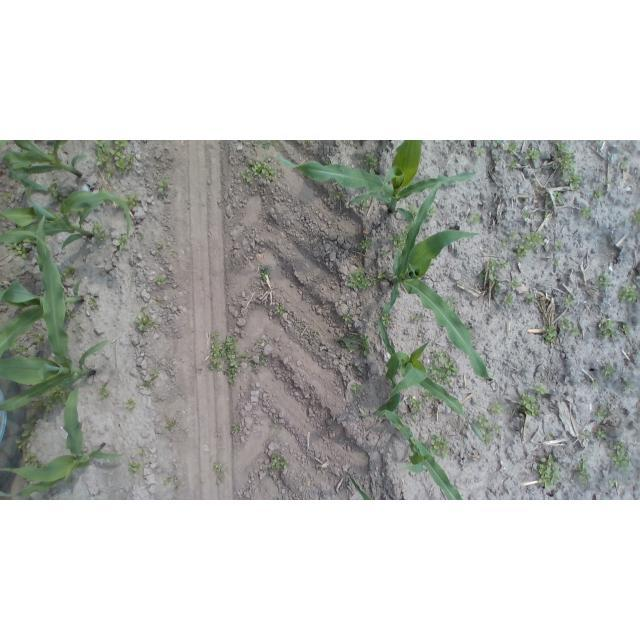Maize: (381, 179, 490, 380), (1, 231, 111, 414), (360, 311, 489, 453), (275, 140, 477, 220), (1, 385, 128, 500), (0, 214, 84, 359), (1, 190, 132, 251), (381, 406, 463, 500), (1, 141, 87, 192), (347, 472, 374, 500)
Weeds: (208, 332, 244, 390), (94, 141, 133, 177), (428, 351, 458, 386), (241, 157, 277, 184), (34, 386, 71, 412), (537, 453, 561, 491), (335, 333, 371, 355), (15, 419, 37, 453), (554, 141, 578, 171), (479, 259, 510, 282), (609, 441, 631, 471), (6, 239, 37, 260), (347, 266, 372, 290), (428, 434, 450, 458), (519, 392, 539, 416), (618, 284, 640, 305), (133, 311, 155, 332), (598, 317, 617, 339), (574, 456, 590, 482), (390, 231, 409, 252), (559, 318, 581, 336), (481, 425, 501, 444), (522, 232, 545, 246), (269, 454, 289, 470), (93, 222, 108, 243), (564, 172, 581, 190), (543, 324, 558, 344), (24, 456, 47, 469), (245, 353, 259, 374), (514, 244, 531, 261), (596, 272, 612, 290), (125, 193, 140, 210), (252, 141, 279, 150), (51, 181, 62, 203), (525, 146, 540, 162), (127, 458, 142, 474), (372, 271, 388, 286), (158, 176, 170, 196), (533, 382, 549, 396), (477, 415, 495, 427), (505, 141, 520, 155), (445, 296, 458, 312), (490, 402, 505, 415), (411, 396, 422, 412), (10, 343, 27, 353), (63, 267, 76, 280), (364, 155, 378, 167), (259, 266, 271, 280), (595, 407, 607, 421), (603, 363, 614, 378), (503, 294, 516, 306), (361, 237, 372, 251), (118, 237, 128, 252), (99, 384, 109, 399), (32, 332, 44, 344), (506, 158, 518, 170), (124, 398, 136, 410), (580, 206, 592, 218), (564, 295, 575, 308), (65, 308, 75, 322), (471, 213, 482, 225), (352, 383, 363, 395), (621, 324, 632, 336), (625, 380, 635, 393), (596, 429, 607, 440), (594, 189, 605, 200), (511, 279, 522, 290), (259, 352, 269, 364), (155, 276, 167, 286), (406, 202, 416, 214), (383, 313, 392, 326), (554, 190, 562, 204), (213, 462, 224, 472), (343, 312, 352, 324), (89, 297, 98, 309), (525, 295, 537, 304), (163, 477, 175, 486), (335, 191, 344, 203), (619, 160, 629, 170), (553, 241, 563, 251), (66, 477, 75, 488), (232, 425, 241, 436), (632, 209, 639, 223), (424, 389, 432, 401), (217, 474, 226, 484), (475, 146, 485, 155), (166, 419, 175, 429), (501, 238, 510, 248), (274, 306, 284, 315), (493, 282, 501, 293), (523, 210, 532, 219), (313, 329, 322, 338), (145, 380, 154, 389), (59, 144, 68, 153), (602, 179, 611, 188), (509, 231, 518, 240), (581, 431, 591, 439), (412, 314, 422, 322), (1, 193, 11, 201), (140, 447, 147, 458), (456, 280, 465, 288), (494, 140, 503, 148), (428, 207, 437, 215), (155, 241, 163, 250), (551, 258, 559, 267), (149, 371, 159, 378), (269, 421, 276, 431), (47, 147, 54, 157), (381, 249, 392, 255), (591, 380, 599, 388), (171, 248, 178, 257), (609, 479, 618, 486), (361, 199, 367, 209), (548, 432, 555, 440), (215, 429, 221, 437), (465, 323, 472, 329), (303, 478, 309, 485), (333, 181, 339, 187), (255, 341, 261, 347), (155, 396, 161, 402), (173, 488, 179, 493), (305, 140, 312, 144), (326, 160, 331, 165), (451, 343, 455, 349), (278, 438, 282, 443)
